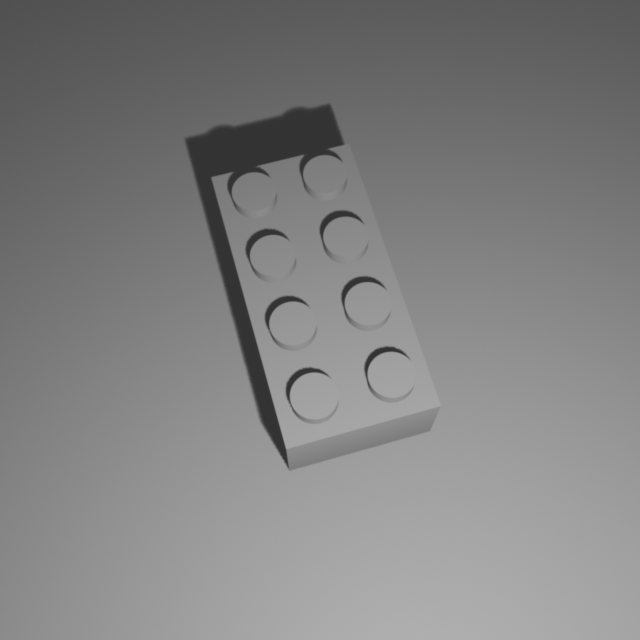lego_2x4: (210, 136, 443, 471)
